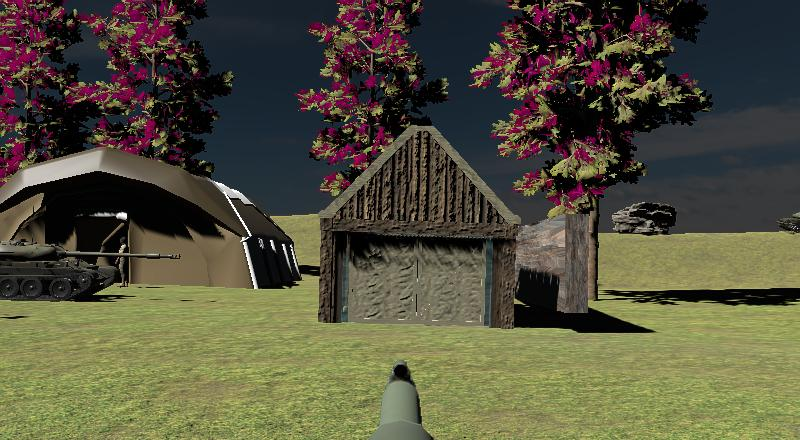Human: (115, 231, 133, 291)
Tank: (0, 236, 183, 307), (775, 208, 800, 236)
